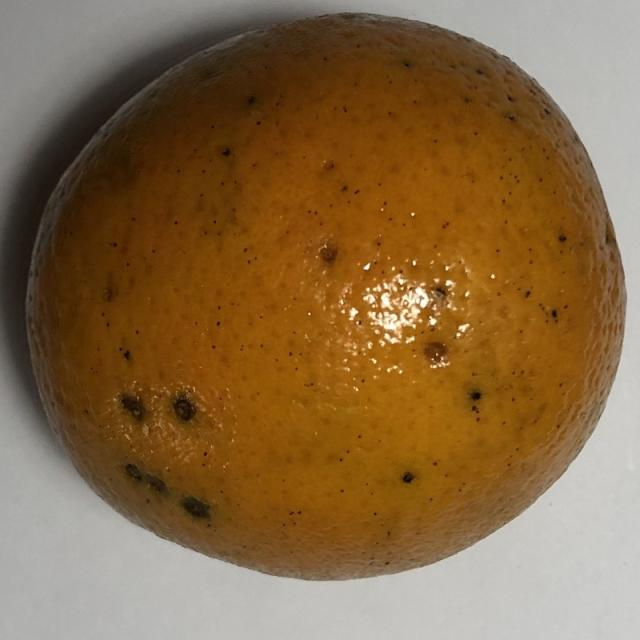blackspot: (6, 12, 640, 600)
